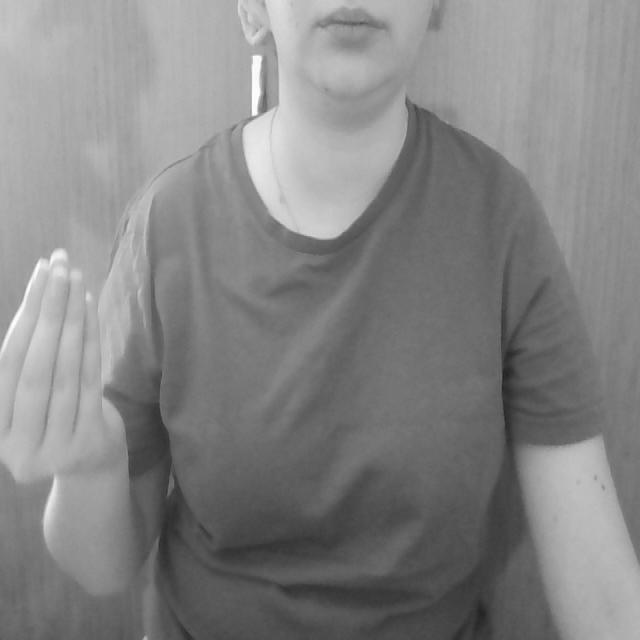iyi: (0, 233, 130, 480)
